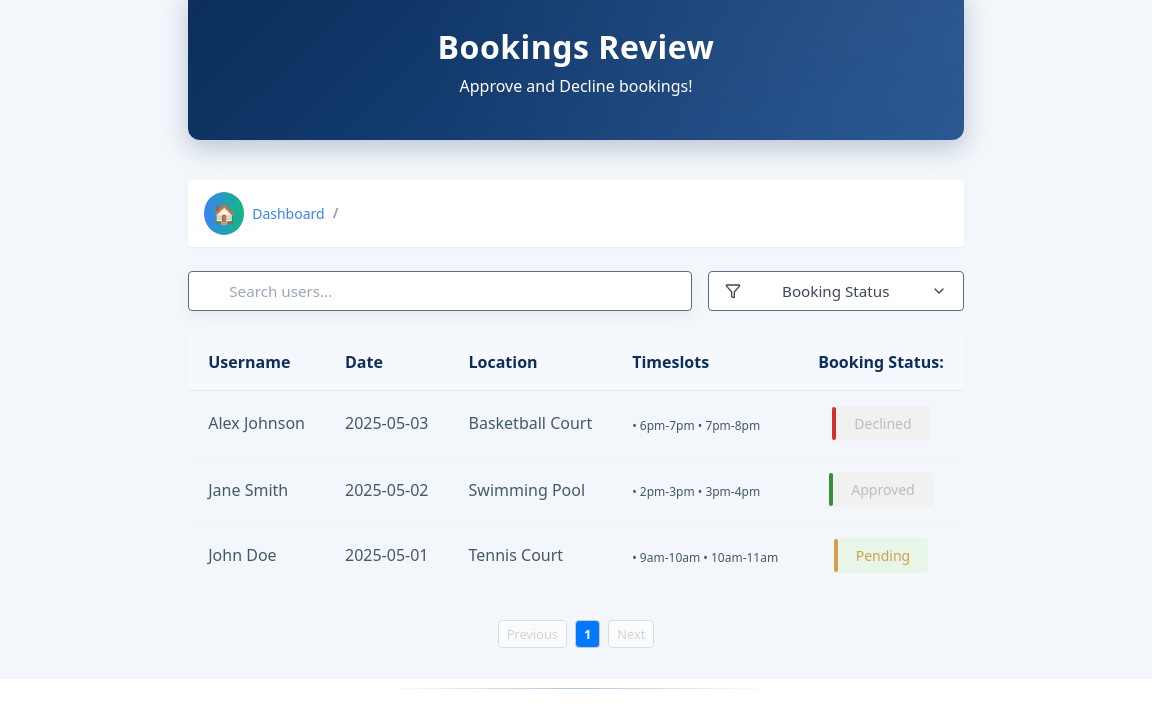
Test: BookingsPage Component › searches bookings by facility
(page scrolled)
Expected: the text "Tennis Court" is shown, [448,523,612,588]
// Search for 'Basketball'
Type "Basketball" into the field with placeholder "Search users..." at (440, 291), box [188,271,692,311]
(page scrolled)
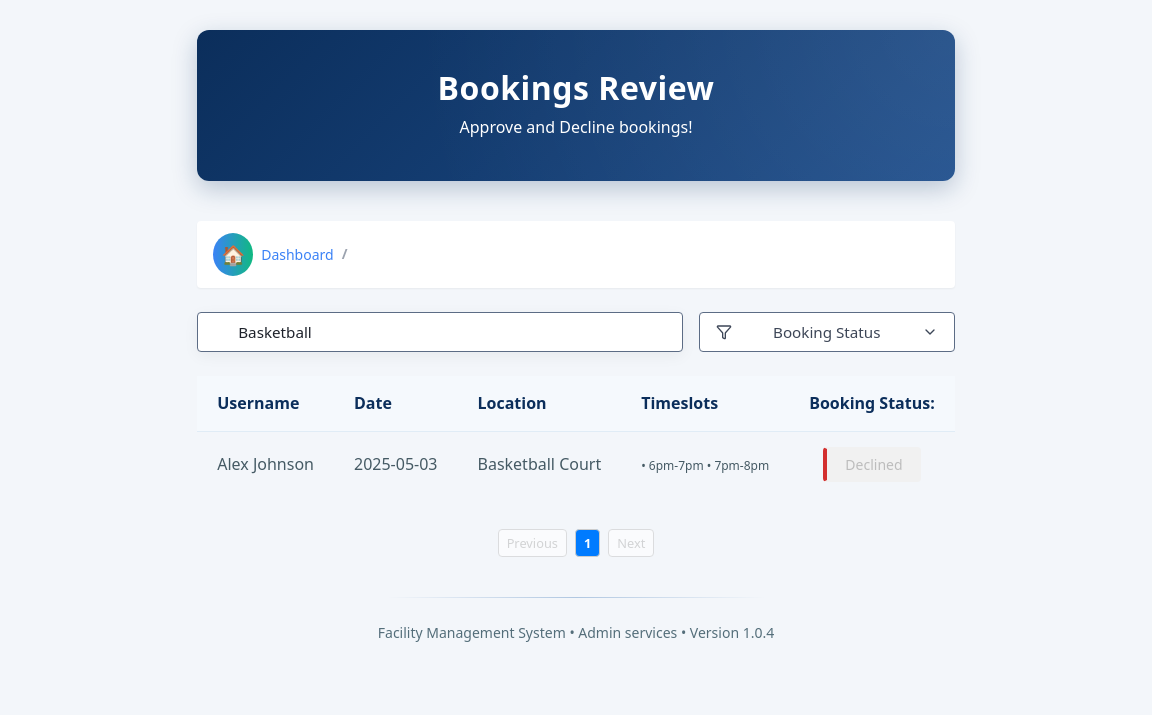
Expected: the text "Basketball Court" is shown, [458,432,621,497]
Expected: the text "Tennis Court" is gone
Expected: the text "Swimming Pool" is gone
